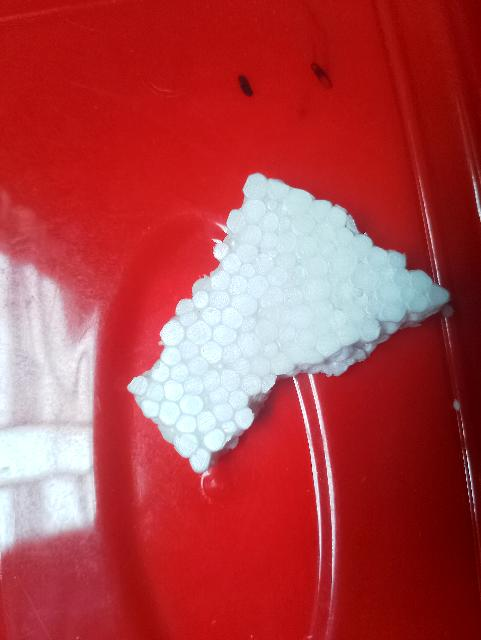cocksheet: (81, 132, 440, 485)
